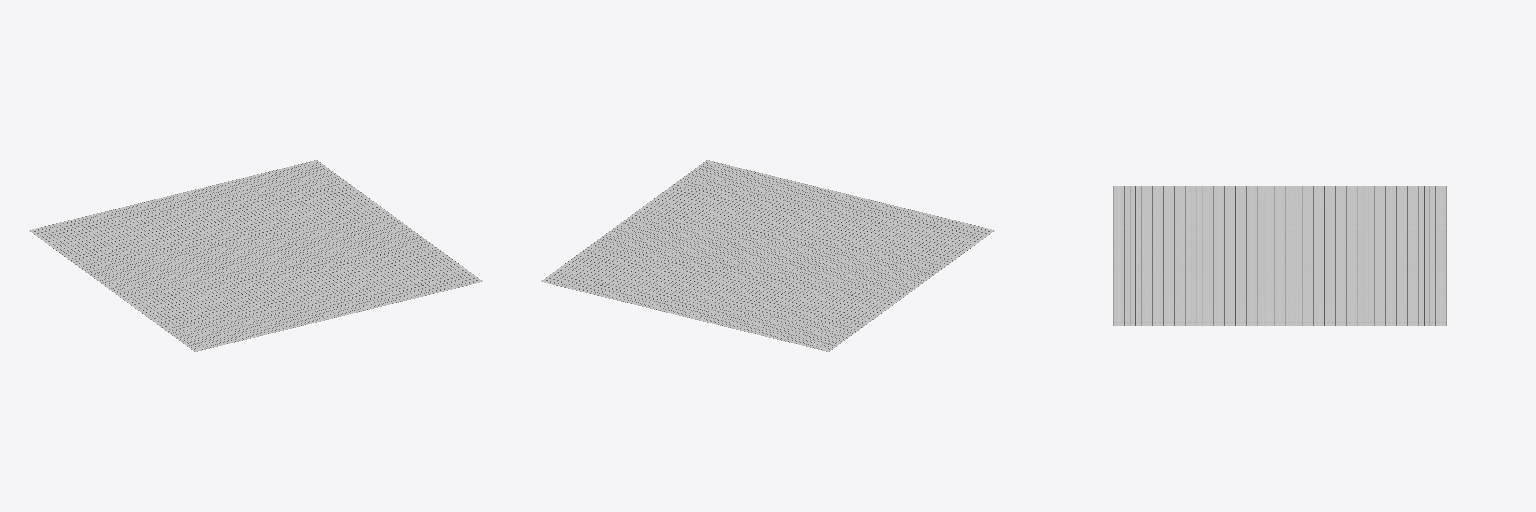
3 renders of one model, left to right at view 1: azimuth 30°, elevation 25°; view 2: azimuth 150°, elevation 25°; view 3: azimuth 270°, elevation 25°, orthographic.
Parts seen in each view (by area): view 1: Plane; view 2: Plane; view 3: Plane.
Boxes of the visible parts, box(x1,y1,x2,y2) form: Plane: box(29, 160, 482, 351); Plane: box(541, 160, 994, 351); Plane: box(1113, 186, 1446, 325).
Bounding box in the file's own units: 10000 × 0 × 10000.
1 materials, 1 textured.